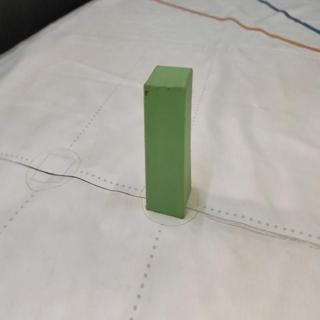greenbox: (139, 65, 194, 221)
